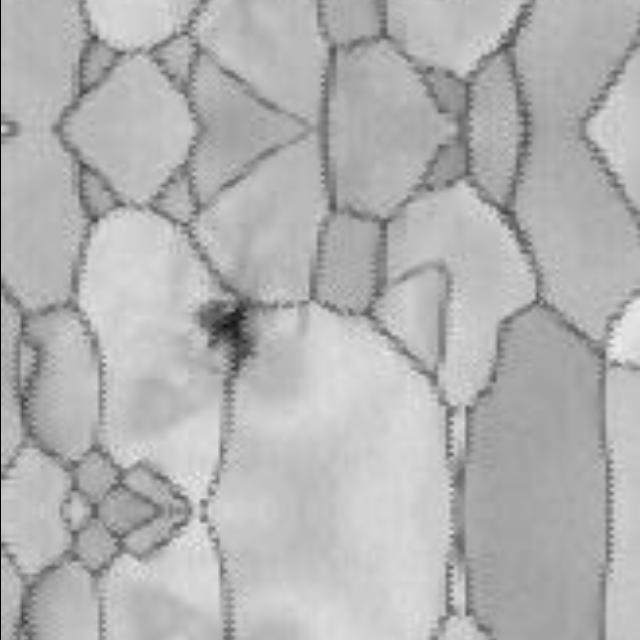good_void: (192, 286, 256, 378)
